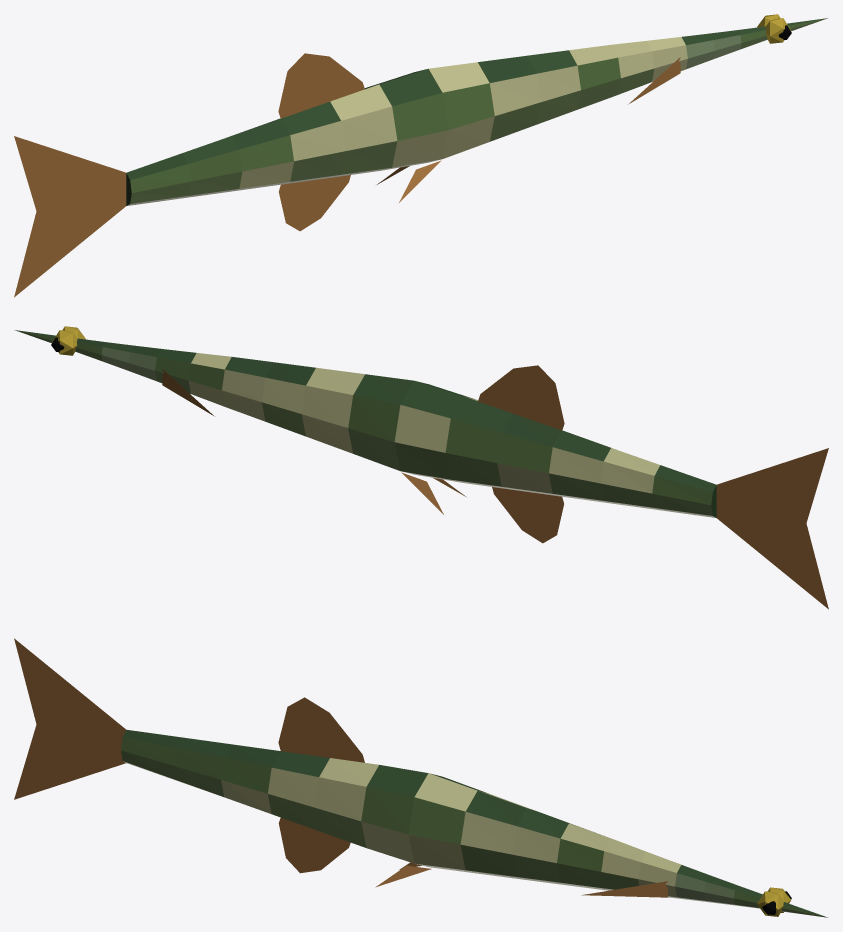
The model's file is northern-pike.glb.
3 views of the same model, one above another, from view 1: azimuth 30°, elevation 25°; view 2: azimuth 150°, elevation 25°; view 3: azimuth 330°, elevation 25° (orthographic).
Parts seen in each view (by area): view 1: northern-pike; view 2: northern-pike; view 3: northern-pike.
Part boxes in pixels (<box>): northern-pike: <box>14,14,828,297</box>; northern-pike: <box>14,326,828,609</box>; northern-pike: <box>14,638,827,917</box>.
Bounding box in the file's own units: 1.16 × 0.2408 × 0.1152.
